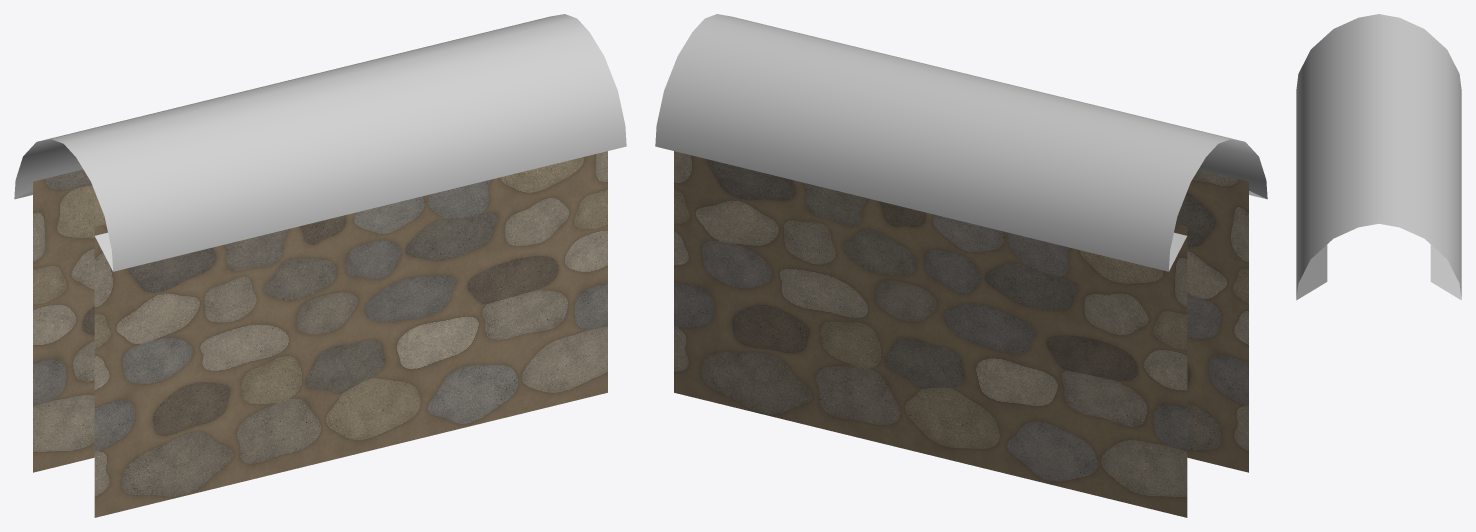
Rendered from Hanok_ChogaWall_Straight_01.fbx.
The picture shows the model from 3 angles, left to right: view 1: azimuth 30°, elevation 25°; view 2: azimuth 150°, elevation 25°; view 3: azimuth 270°, elevation 25°; orthographic projection. The views are drawn at different scales.
Visible parts, largest first — view 1: Wall_Choga_Straight_01; view 2: Wall_Choga_Straight_01; view 3: Wall_Choga_Straight_01.
Boxes of the visible parts, left/top/right/bottom form: Wall_Choga_Straight_01: left=14, top=14, right=626, bottom=517; Wall_Choga_Straight_01: left=655, top=14, right=1267, bottom=517; Wall_Choga_Straight_01: left=1296, top=14, right=1461, bottom=300.
Size of the model in its own units: 2.4 by 1.57 by 0.8.
